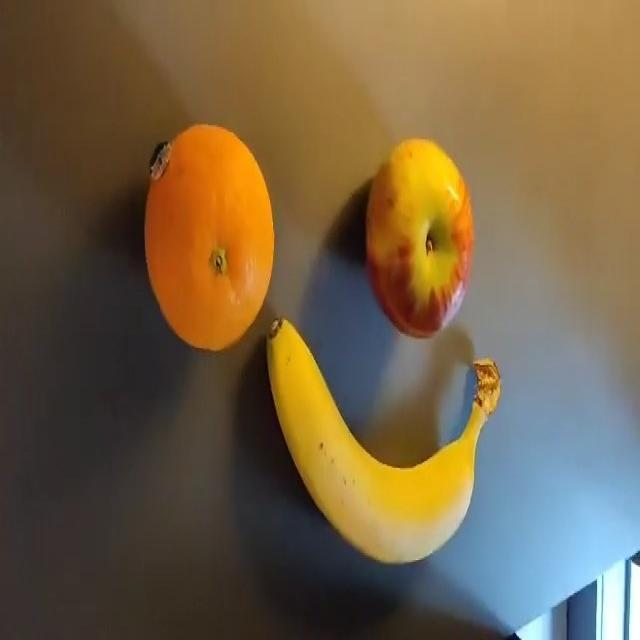Apple: (357, 137, 482, 337)
Banana: (264, 316, 488, 566)
Orange: (137, 123, 279, 355)
